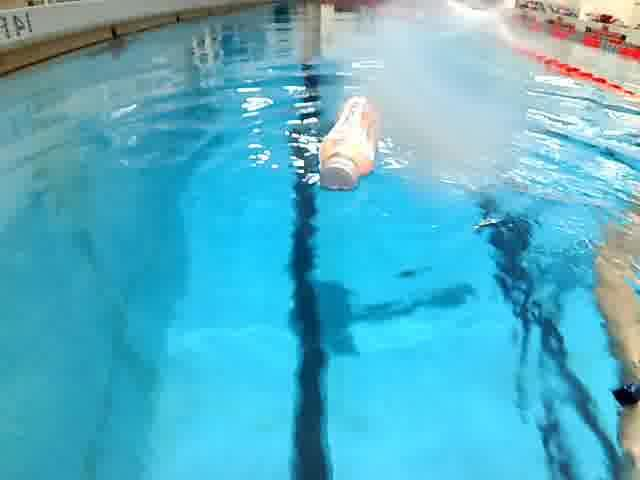Bottle: (316, 93, 390, 193)
